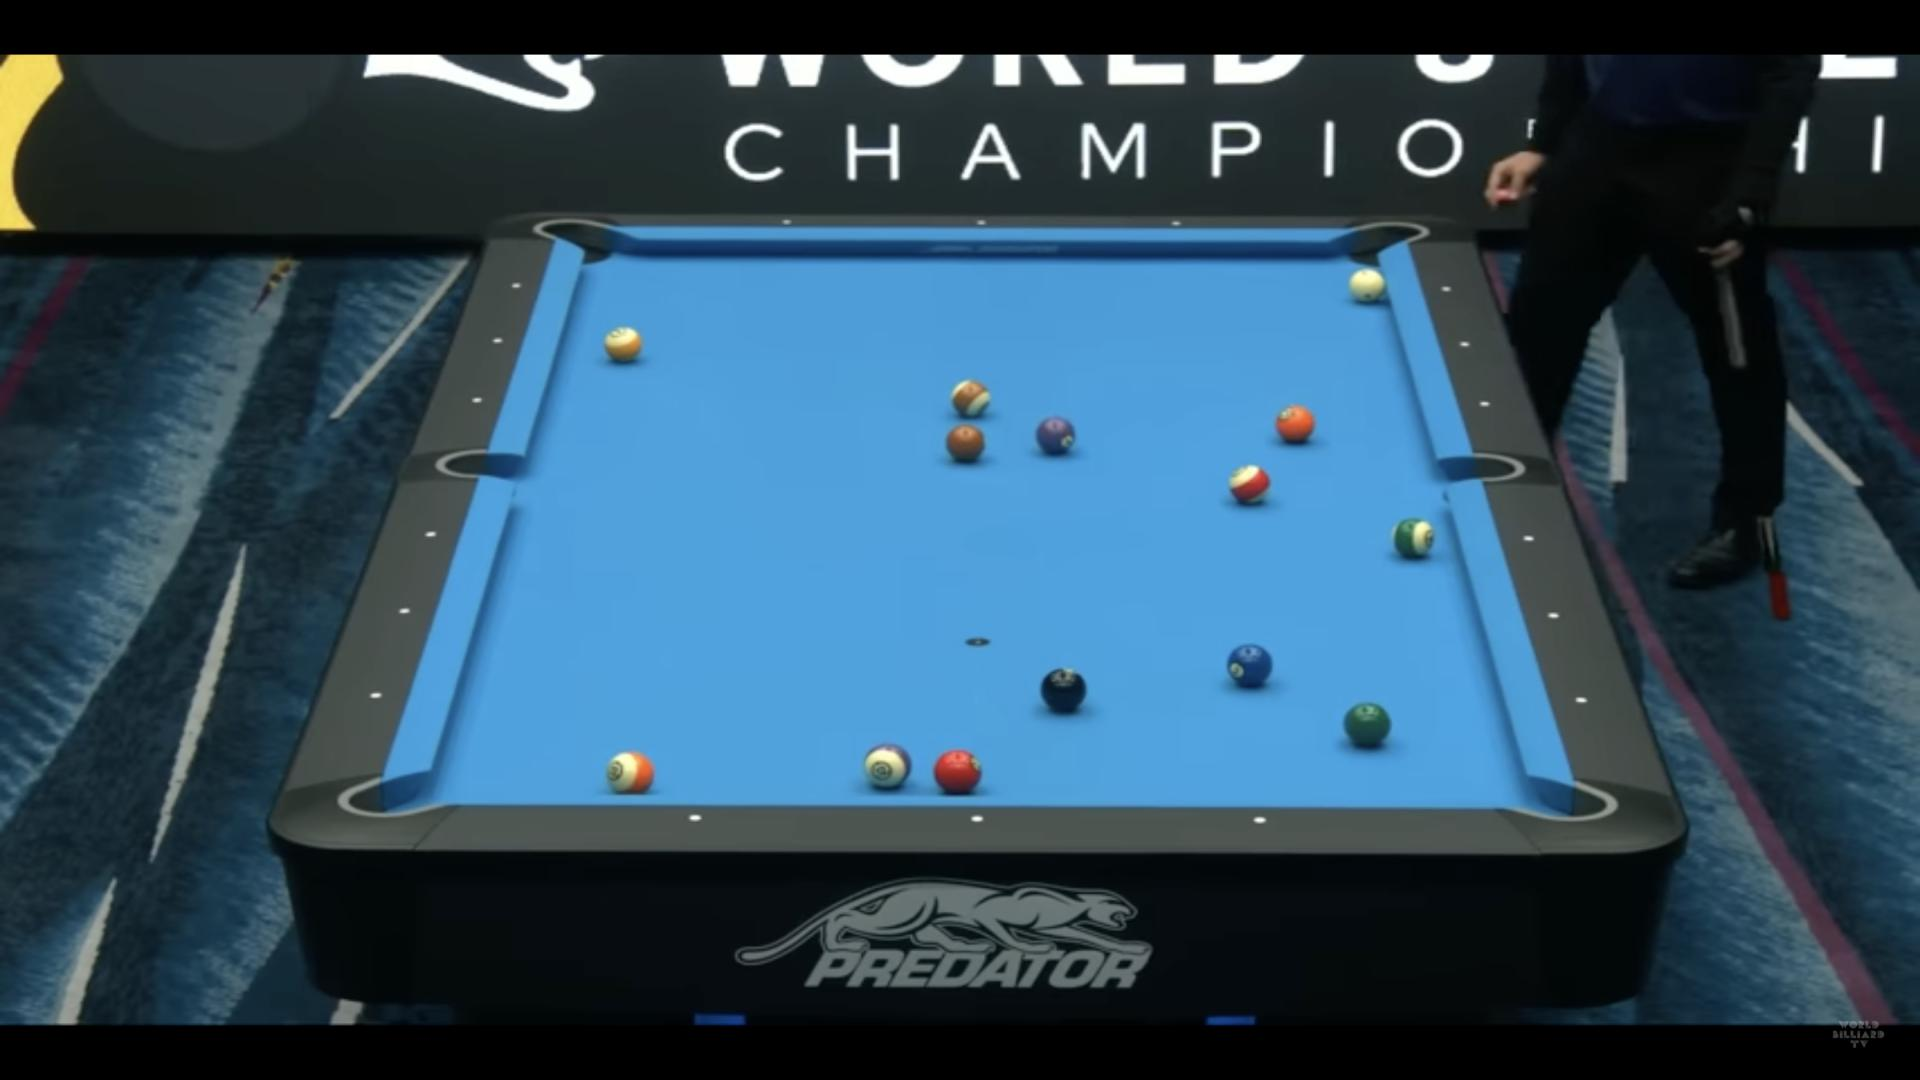Black: (1040, 669, 1087, 709)
Cue: (1349, 268, 1386, 302)
Dot: (969, 812, 986, 828), (1253, 812, 1270, 828), (1520, 530, 1538, 546), (367, 688, 384, 704), (398, 604, 415, 620), (423, 525, 440, 541), (687, 810, 703, 825), (1575, 694, 1592, 708), (1545, 609, 1563, 624), (489, 334, 505, 348), (469, 396, 484, 410), (509, 278, 524, 293), (1458, 338, 1473, 351), (1478, 397, 1491, 410), (1440, 282, 1453, 295), (782, 218, 793, 227), (1171, 219, 1182, 228), (977, 218, 986, 227)
Solid: (934, 749, 982, 794), (1342, 703, 1391, 745), (1228, 644, 1273, 686), (1274, 406, 1313, 442), (1036, 417, 1075, 452), (945, 425, 985, 459)
Striped: (864, 744, 913, 789), (607, 752, 654, 794), (1391, 517, 1433, 555), (1229, 464, 1271, 502), (952, 378, 990, 417), (604, 326, 642, 363)
